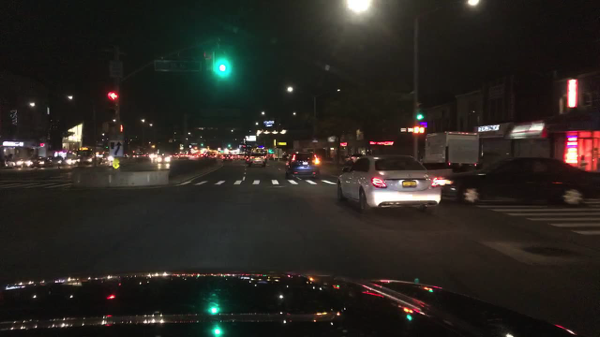car: (440, 156, 598, 206), (337, 154, 441, 212), (284, 152, 321, 180), (27, 157, 54, 169), (249, 152, 268, 168), (4, 158, 26, 168), (85, 157, 103, 165), (56, 158, 72, 166), (157, 156, 172, 163), (223, 154, 234, 161), (188, 154, 194, 159), (133, 155, 140, 159), (239, 155, 244, 160), (183, 154, 188, 159), (177, 154, 182, 159), (210, 154, 216, 158), (203, 154, 209, 158), (244, 155, 248, 160), (194, 154, 199, 158), (234, 155, 238, 159), (173, 154, 177, 158)
traffic light: (217, 52, 228, 76), (203, 50, 213, 73), (416, 103, 425, 121), (105, 90, 119, 101), (414, 127, 425, 134), (118, 123, 124, 133), (228, 143, 231, 148), (201, 142, 204, 147)
traffic sign: (155, 60, 201, 72), (108, 60, 124, 78), (108, 141, 125, 155), (112, 159, 121, 169), (278, 142, 286, 146)
truck: (419, 132, 480, 173)
